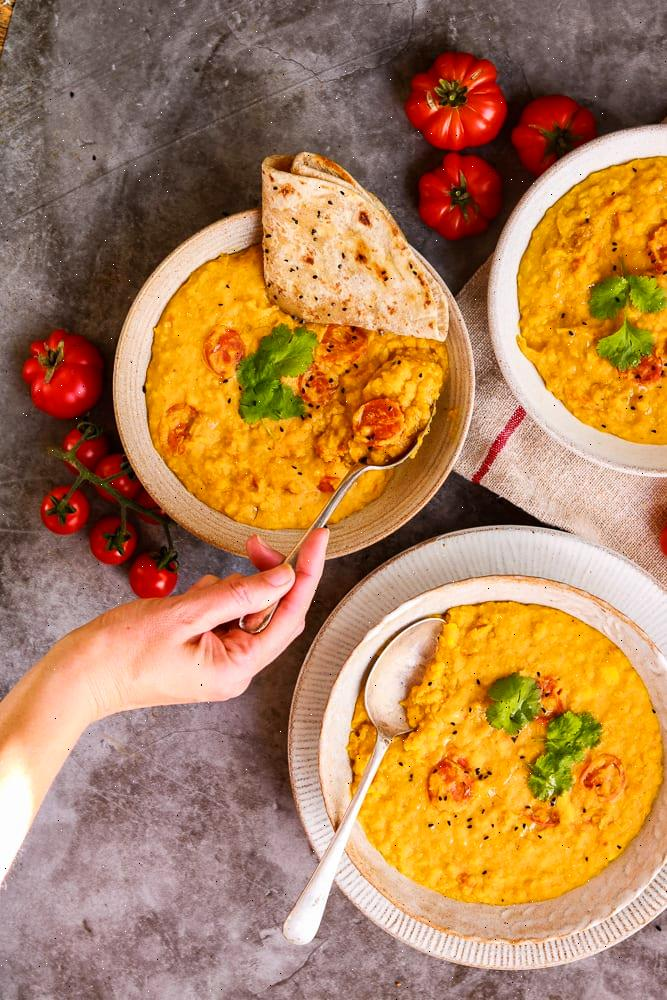daal: (343, 589, 660, 917), (517, 149, 667, 450)
